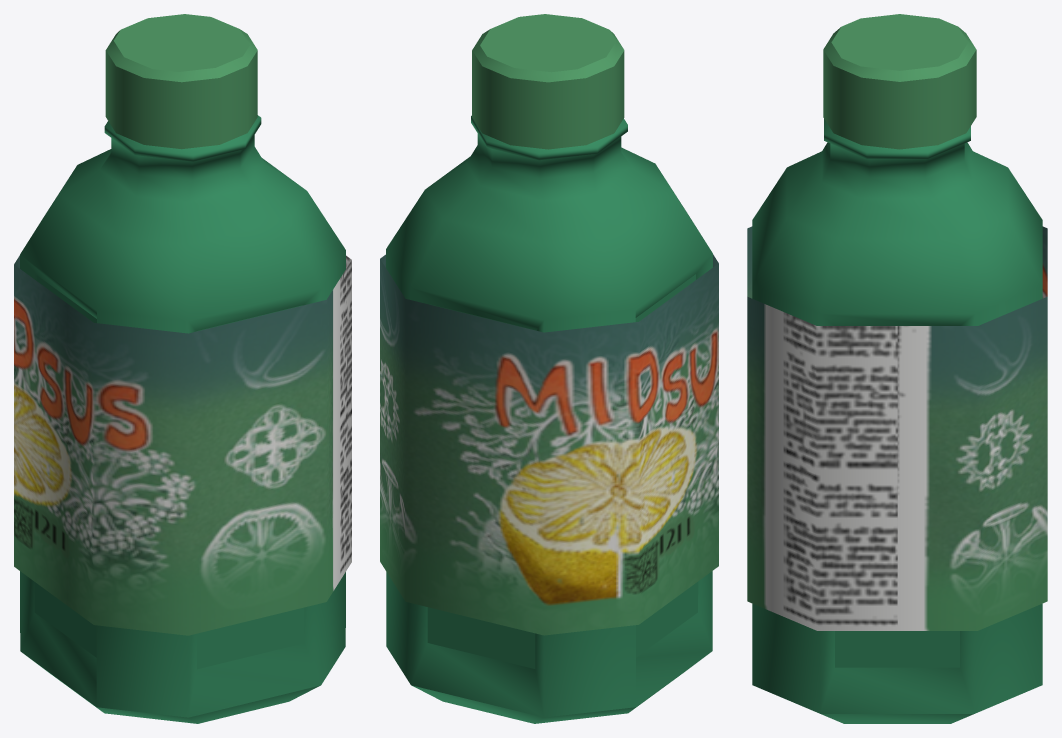
The model's file is petbbotle_004.fbx.
The picture shows the model from 3 angles, left to right: view 1: azimuth 30°, elevation 25°; view 2: azimuth 150°, elevation 25°; view 3: azimuth 270°, elevation 25°; orthographic projection.
Parts seen in each view (by area): view 1: petbottle_004; view 2: petbottle_004; view 3: petbottle_004.
Part boxes in pixels (<box>): petbottle_004: <box>14,14,351,723</box>; petbottle_004: <box>380,14,718,723</box>; petbottle_004: <box>747,14,1047,723</box>.
Bounding box in the file's own units: 5.01 × 11.58 × 5.01.
Materials: 2 (1 with a texture image).
